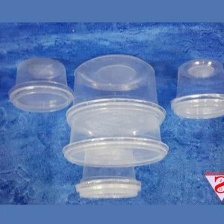plastic_box: (62, 49, 170, 133), (56, 99, 172, 171), (3, 52, 79, 117), (69, 143, 145, 203), (166, 55, 223, 123)
